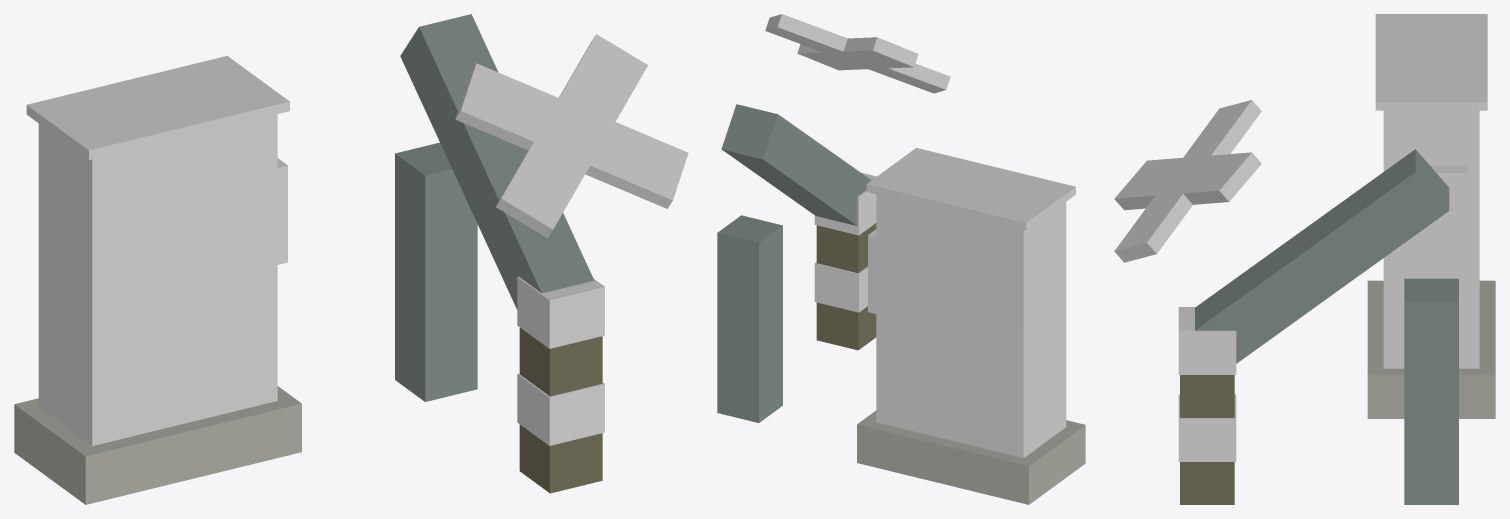
File: SM_ArmarioAdif_v3_CruzDoblada_LOD1.fbx
The picture shows the model from 3 angles, left to right: view 1: azimuth 30°, elevation 25°; view 2: azimuth 150°, elevation 25°; view 3: azimuth 270°, elevation 25°; orthographic projection. The views are drawn at different scales.
Parts seen in each view (by area): view 1: SM_sagunto_vivo_v13_LOD1; view 2: SM_sagunto_vivo_v13_LOD1; view 3: SM_sagunto_vivo_v13_LOD1.
Part boxes in pixels (<box>): SM_sagunto_vivo_v13_LOD1: <box>14,14,688,504</box>; SM_sagunto_vivo_v13_LOD1: <box>717,14,1085,504</box>; SM_sagunto_vivo_v13_LOD1: <box>1114,14,1495,504</box>.
Bounding box in the file's own units: 3.11 × 2.53 × 2.38.
